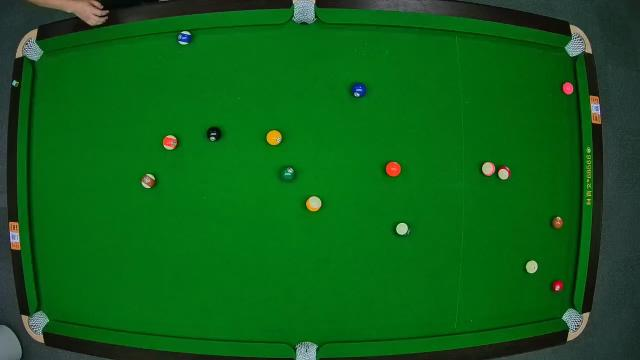bag1: (22, 39, 42, 61)
bag2: (292, 0, 318, 24)
bag3: (564, 33, 588, 55)
bag4: (27, 310, 48, 334)
bag5: (293, 340, 319, 360)
bag6: (562, 308, 582, 330)
ball0: (525, 260, 539, 274)
ball1: (266, 131, 282, 147)
ball10: (176, 30, 192, 46)
ball11: (496, 164, 512, 180)
ball12: (480, 161, 496, 177)
ball13: (162, 134, 178, 151)
ball14: (395, 221, 411, 237)
ball15: (140, 173, 156, 189)
ball2: (349, 82, 367, 99)
ball3: (552, 280, 566, 295)
ball4: (560, 80, 576, 96)
ball5: (384, 162, 401, 178)
ball6: (280, 166, 296, 182)
ball7: (550, 214, 564, 230)
ball8: (206, 128, 222, 142)
ball9: (304, 195, 322, 213)
